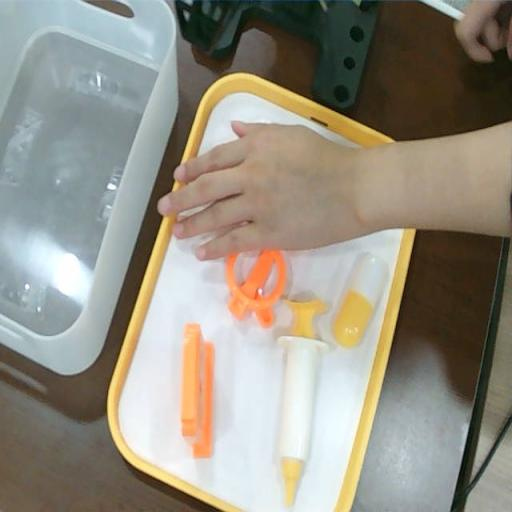hospital: (159, 120, 371, 257)
